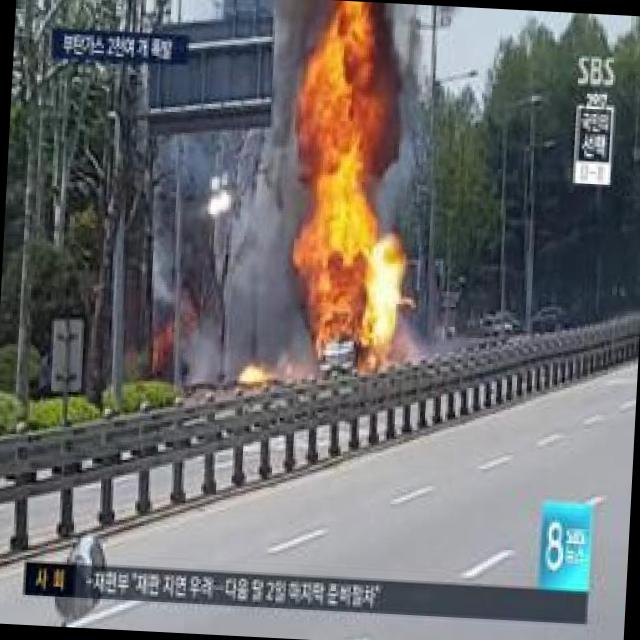Fire: (290, 0, 400, 234), (288, 224, 401, 352), (240, 368, 281, 387)
